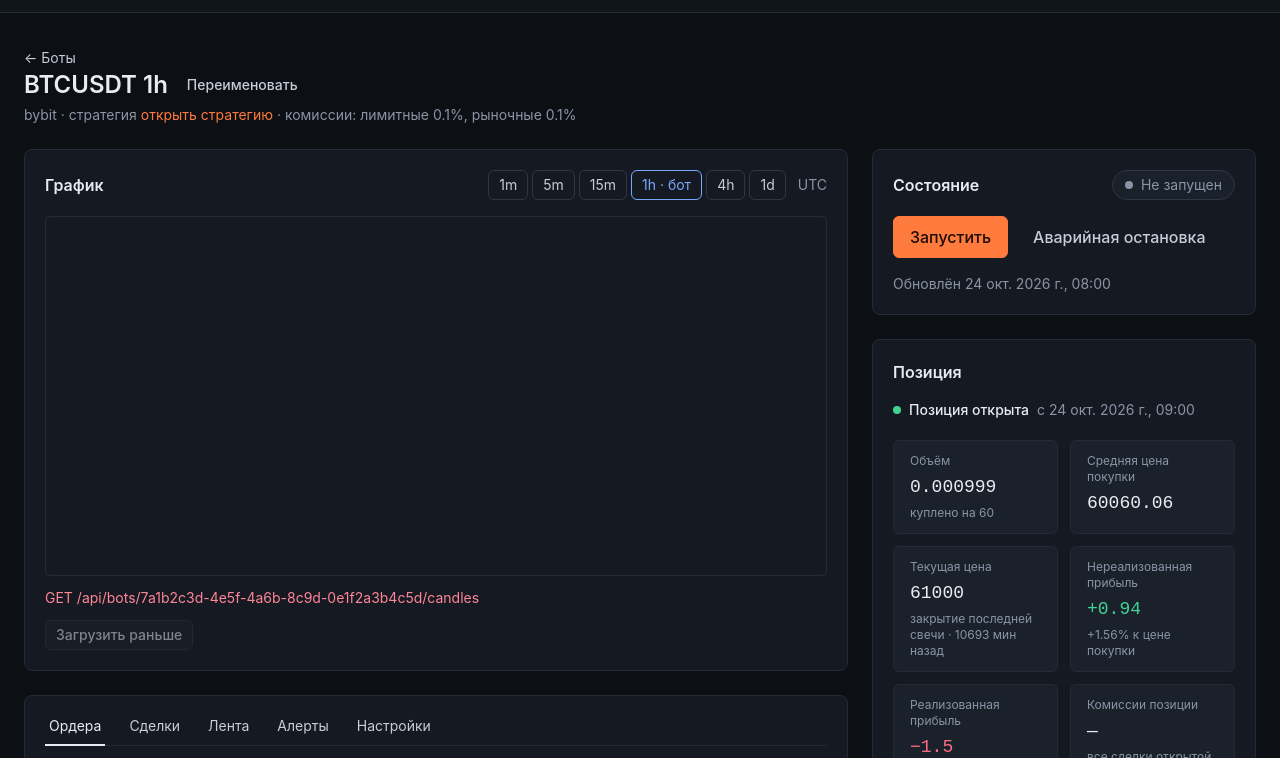
it: bot reports › shows realized profit once a cycle closed
Expected: the text named "Реализованная прибыль" reads "−1.5", left=910, top=737, right=953, bottom=757
What coordinates should you click on to do the following:
click the tab "Сделки"
I would click on:
 (155, 731)
Its box is left=125, top=716, right=184, bottom=746.
(page scrolled)
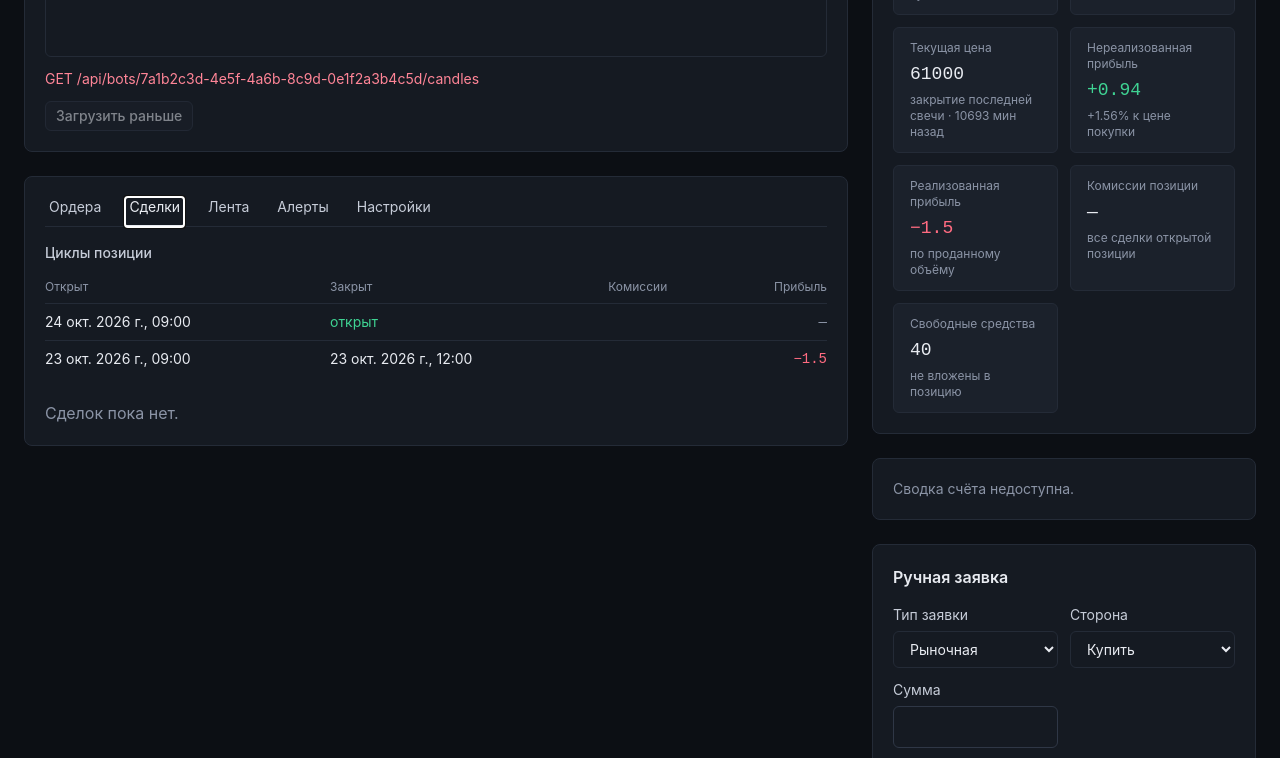
Expected: the text "−1.5" is shown, left=724, top=340, right=827, bottom=377
